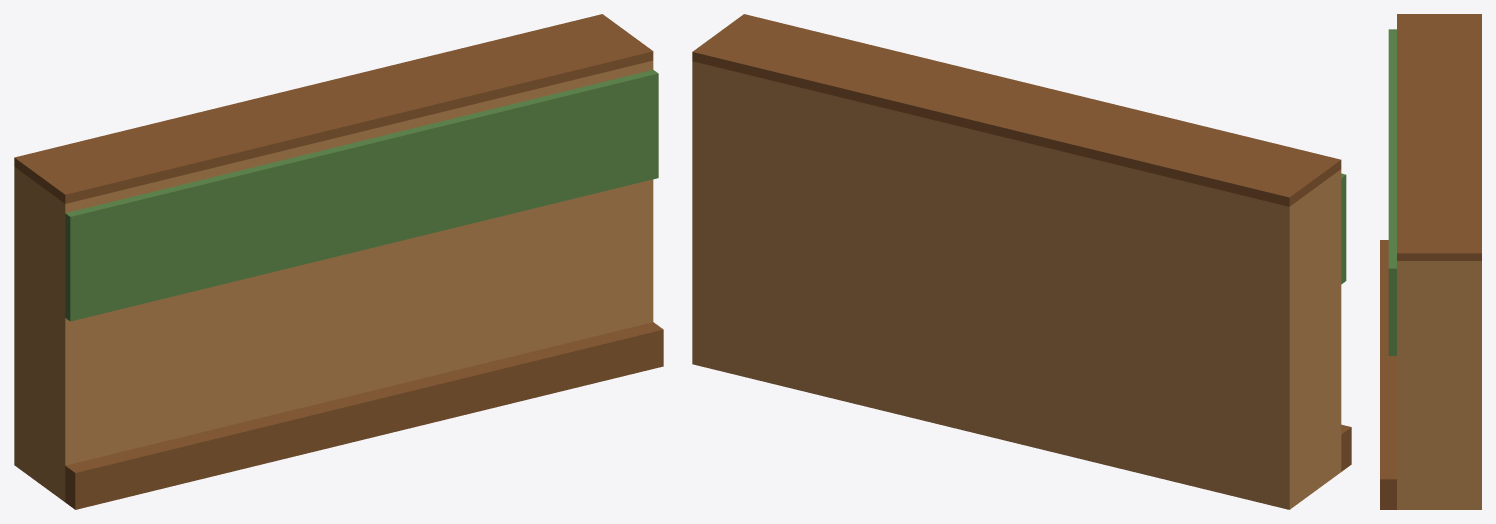
The model's file is wall.glb.
The picture shows the model from 3 angles, left to right: view 1: azimuth 30°, elevation 25°; view 2: azimuth 150°, elevation 25°; view 3: azimuth 270°, elevation 25°; orthographic projection. The views are drawn at different scales.
Parts seen in each view (by area): view 1: wall; view 2: wall; view 3: wall.
Part boxes in pixels (bbox=[...]): wall: bbox=[14, 14, 663, 509]; wall: bbox=[692, 14, 1351, 509]; wall: bbox=[1380, 14, 1481, 509].
Bounding box in the file's own units: 1 × 0.5 × 0.18.
1 material, 1 textured.
